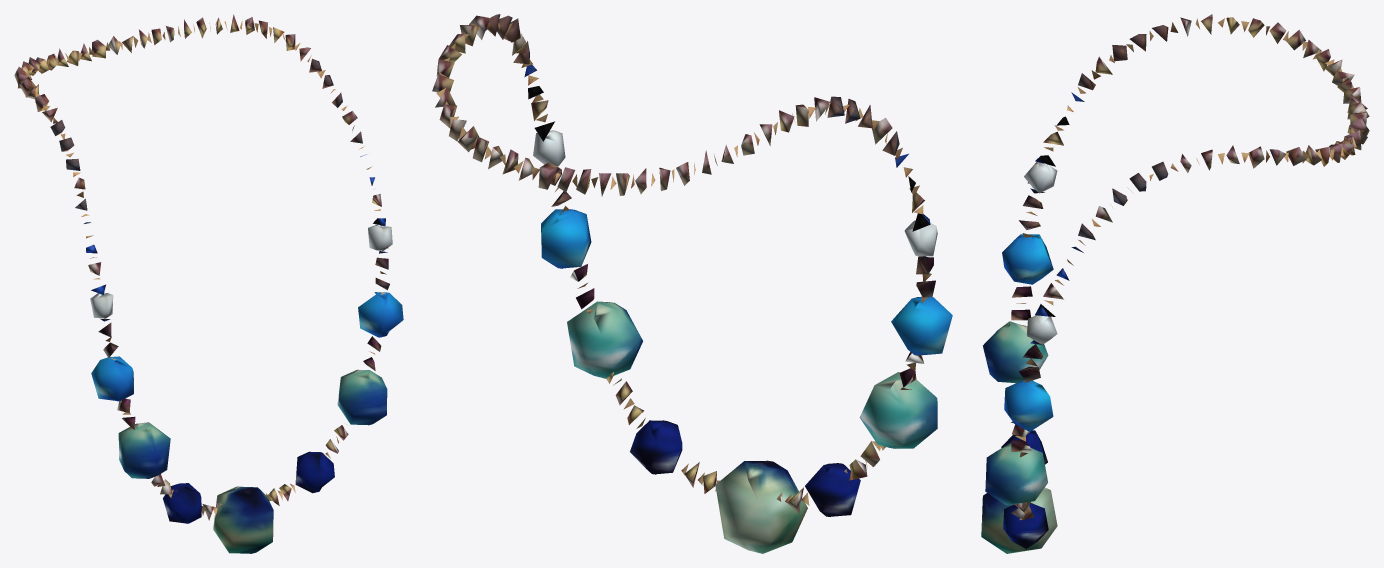
Rendered from yellow neckless.fbx.
The picture shows the model from 3 angles, left to right: view 1: azimuth 30°, elevation 25°; view 2: azimuth 150°, elevation 25°; view 3: azimuth 270°, elevation 25°; orthographic projection. The views are drawn at different scales.
Parts seen in each view (by area): view 1: Icosphere_002; view 2: Icosphere_002; view 3: Icosphere_002.
Boxes of the visible parts, x1=… form: Icosphere_002: x1=14, y1=14, x2=403, y2=553; Icosphere_002: x1=432, y1=14, x2=952, y2=553; Icosphere_002: x1=981, y1=14, x2=1369, y2=553.
Bounding box in the file's own units: 112 × 149 × 111.
Materials: 1 (1 with a texture image).
